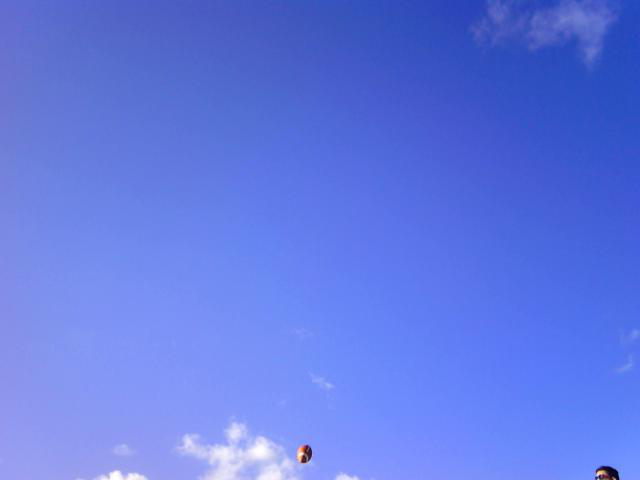football: (294, 443, 313, 469)
